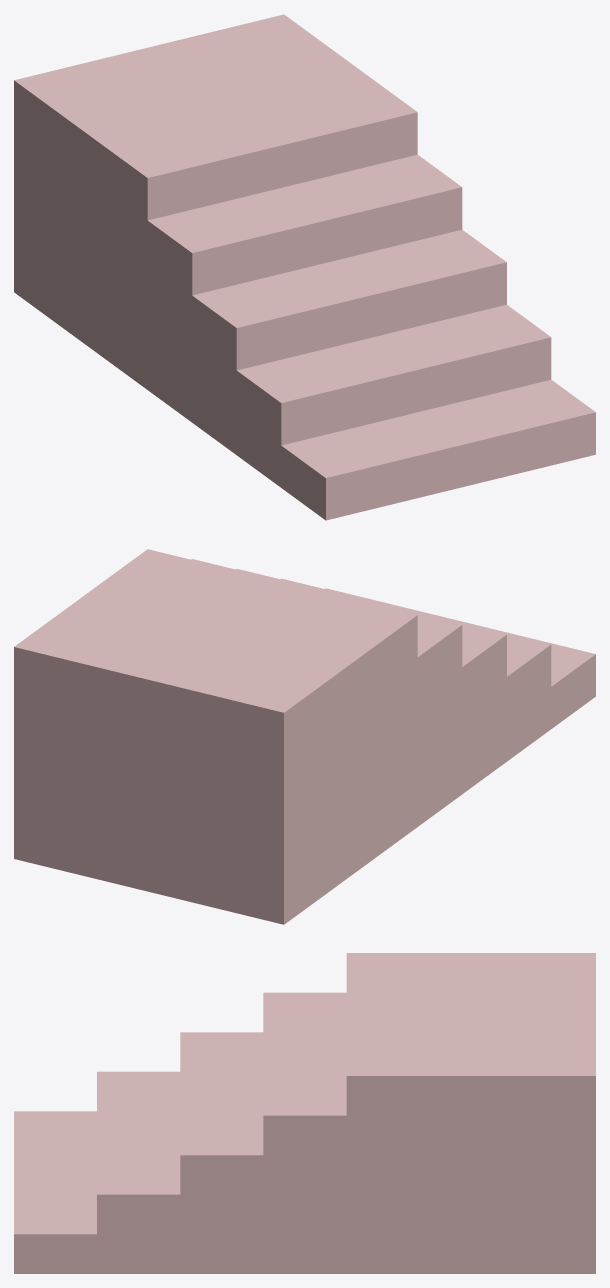
Rendered from Stairs.glb.
3 renders of one model, top to bottom at view 1: azimuth 30°, elevation 25°; view 2: azimuth 150°, elevation 25°; view 3: azimuth 270°, elevation 25°, orthographic. The views are drawn at different scales.
Visible parts, largest first — view 1: Cube; view 2: Cube; view 3: Cube.
Part boxes in pixels (box(x1,y1,x2,y2)): Cube: box(14, 14, 595, 520); Cube: box(14, 549, 595, 924); Cube: box(14, 953, 595, 1273).
Size of the model in its own units: 2 by 1.5 by 4.
